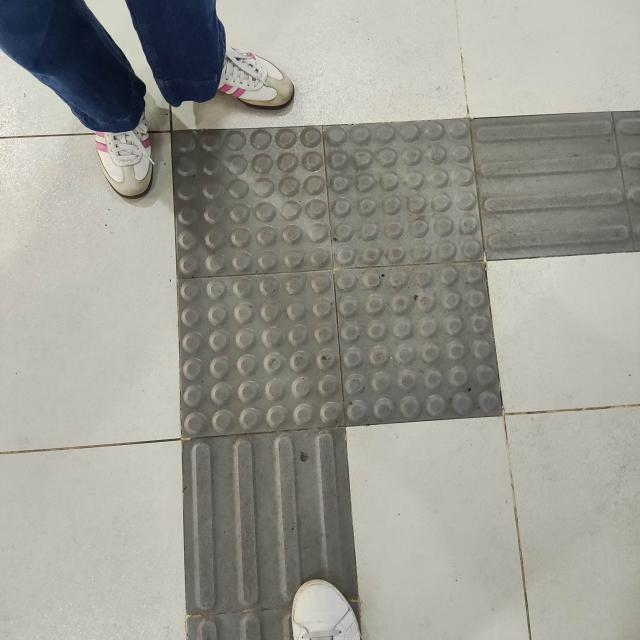kanan: (136, 111, 640, 512)
